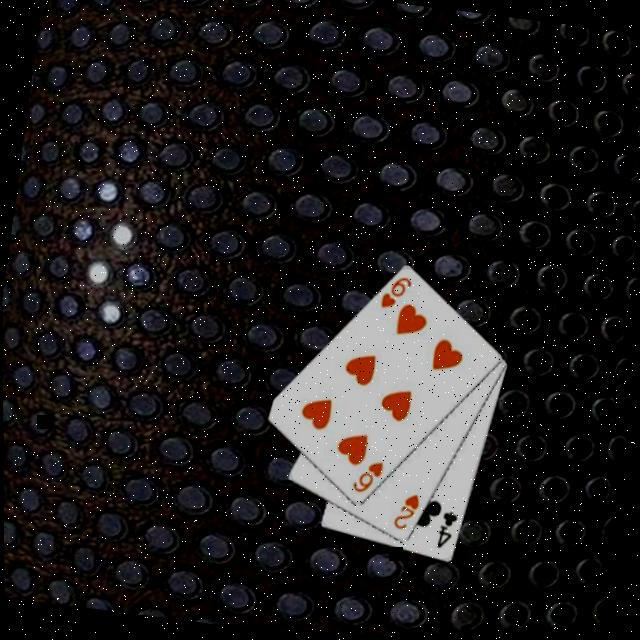2H: (387, 492, 421, 537)
4C: (431, 509, 459, 555)
6H: (375, 274, 414, 316), (347, 458, 385, 500)
